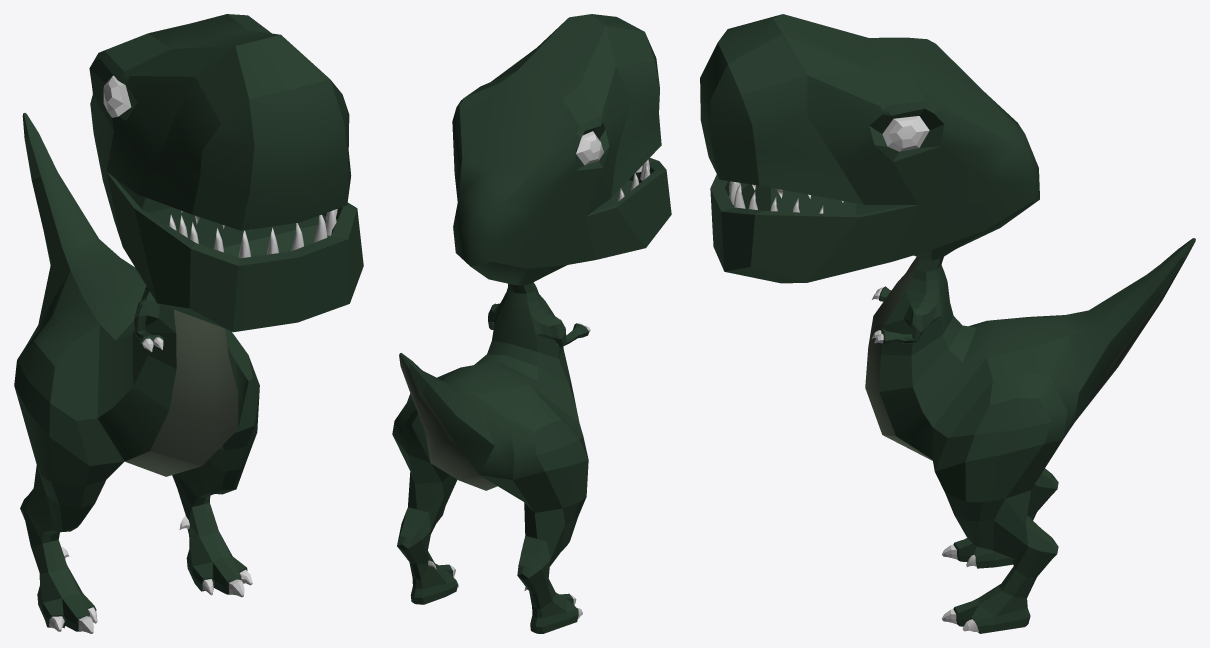
The model's file is dino.dae.
The picture shows the model from 3 angles, left to right: view 1: azimuth 30°, elevation 25°; view 2: azimuth 150°, elevation 25°; view 3: azimuth 270°, elevation 25°; orthographic projection. The views are drawn at different scales.
Visible parts, largest first — view 1: pCylinder14; view 2: pCylinder14; view 3: pCylinder14.
Part boxes in pixels (<box>): pCylinder14: <box>14,14,363,633</box>; pCylinder14: <box>392,14,671,633</box>; pCylinder14: <box>700,14,1195,633</box>.
Bounding box in the file's own units: 1.59 × 4.71 × 3.69.
